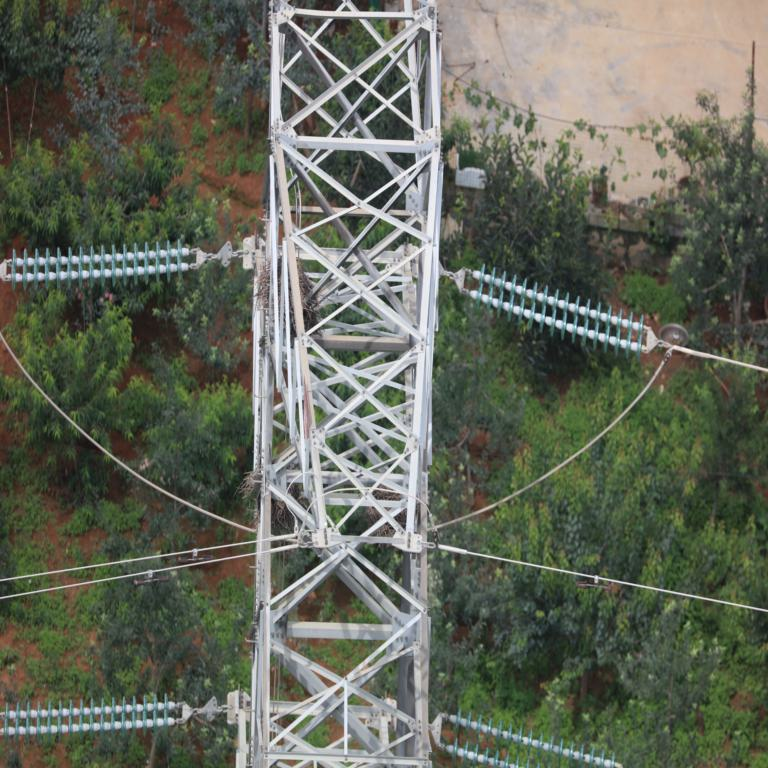nest: (264, 263, 318, 332)
